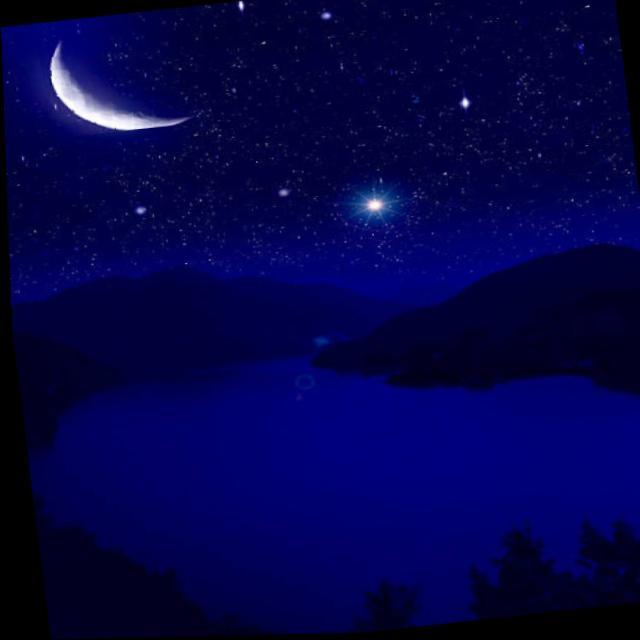moon: (33, 7, 197, 139)
